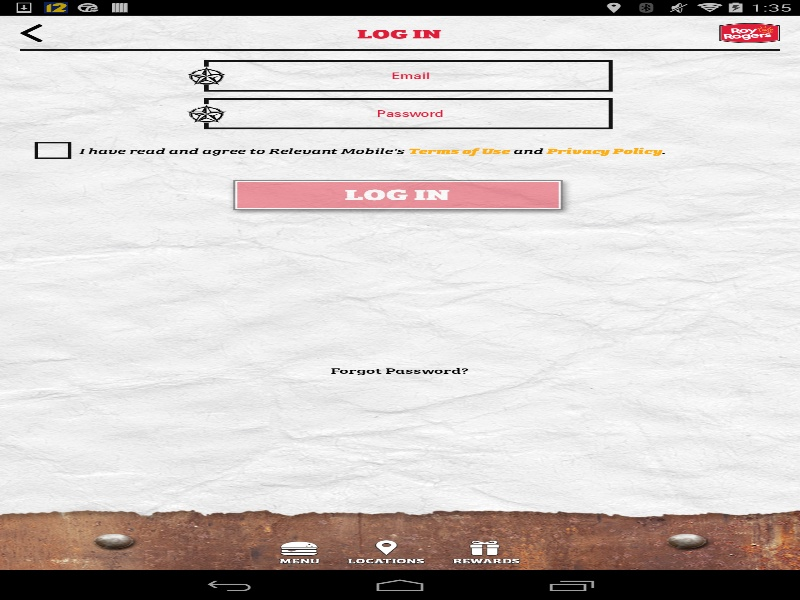Input: (201, 97, 612, 129), (201, 60, 612, 91)
